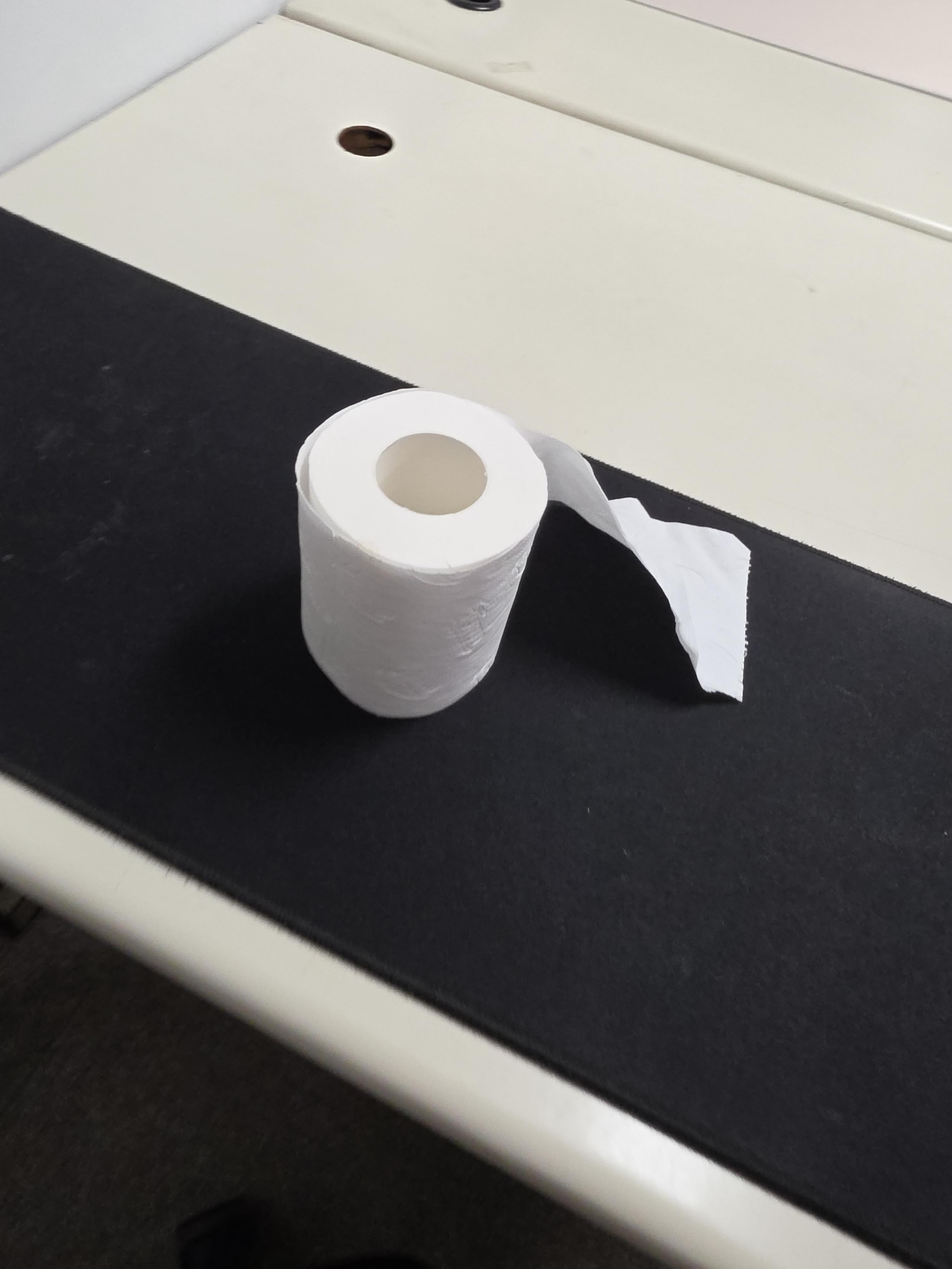tissue: (294, 388, 750, 720)
